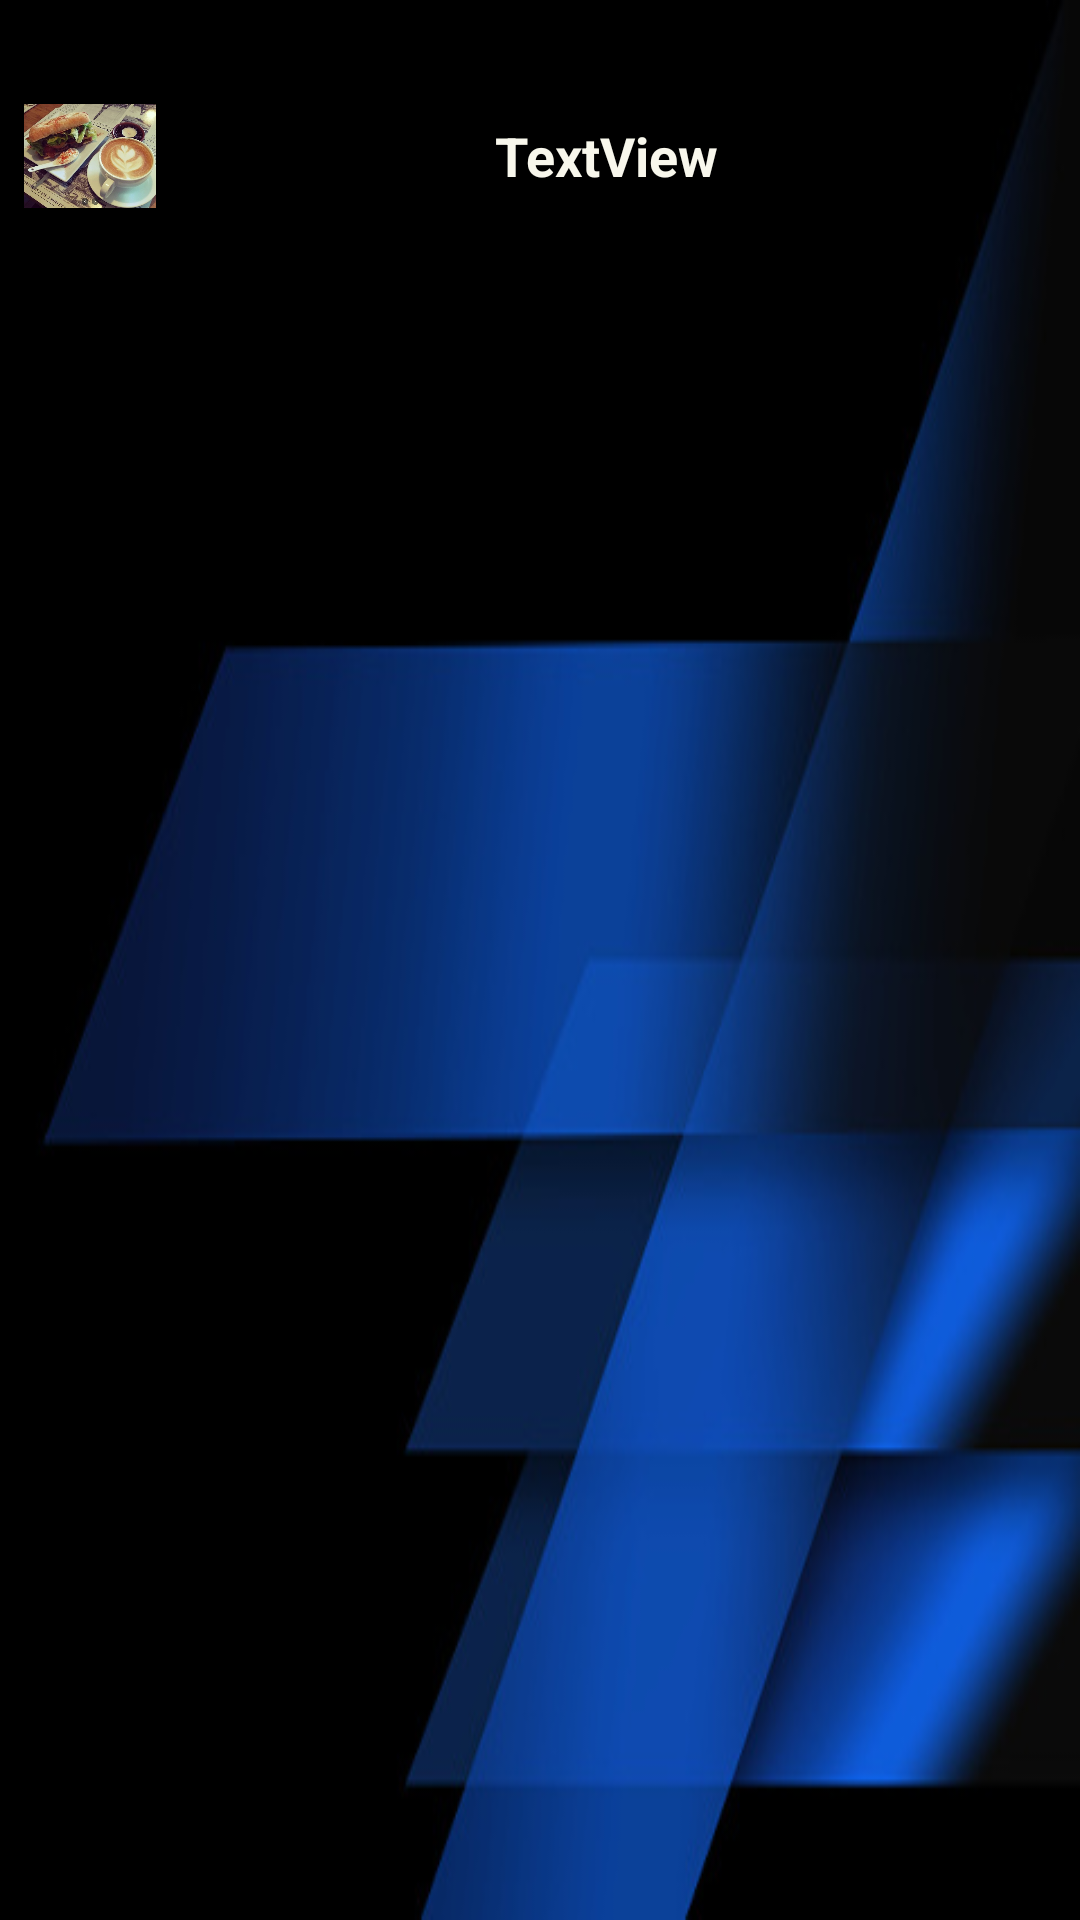

Point at icon controls on the screen. Image size 1080px×1920px, points as (x=x, y=y).
restaurant: (x=90, y=156)
